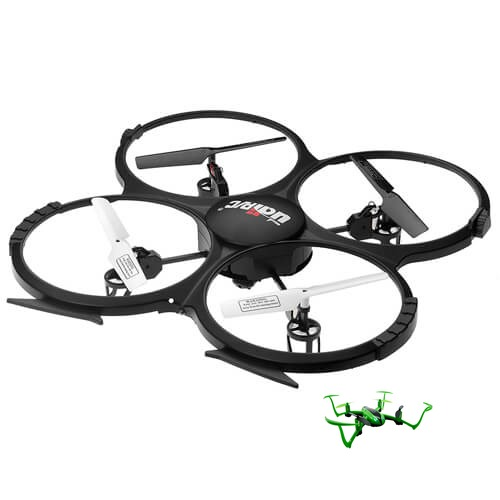drone: (8, 109, 489, 376), (317, 387, 439, 452)
